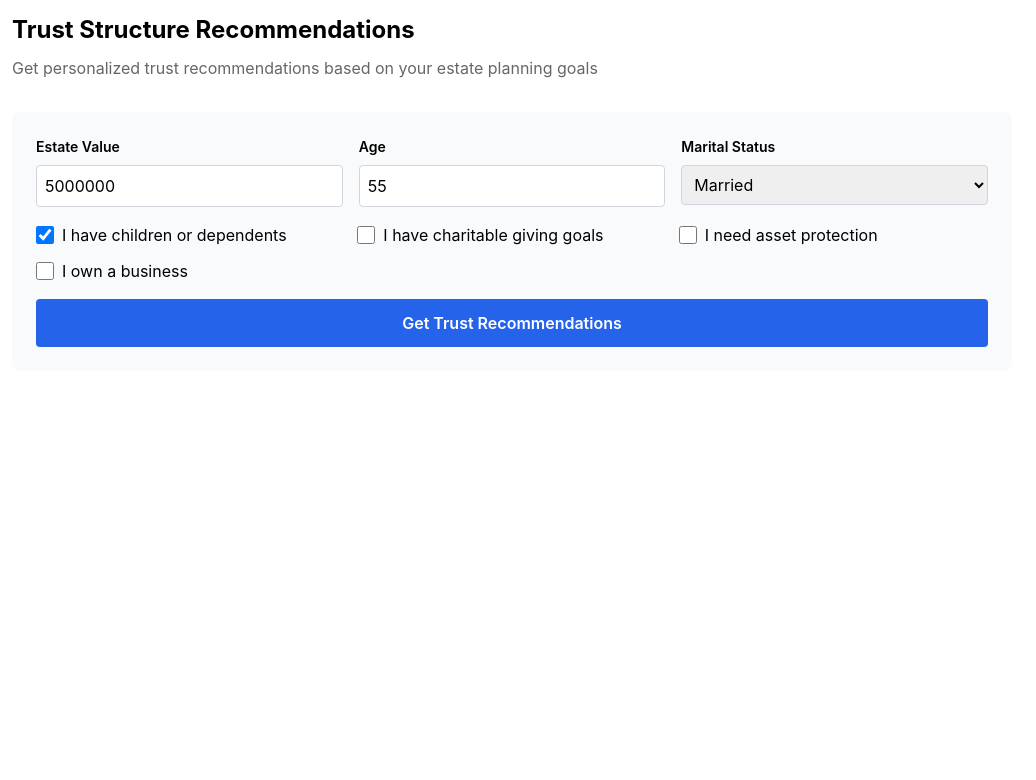
Test: Trust Structure Builder › gets trust recommendations successfully
Click the button "Get Trust Recommendations". click: (512, 323)
box: [36,299,988,347]
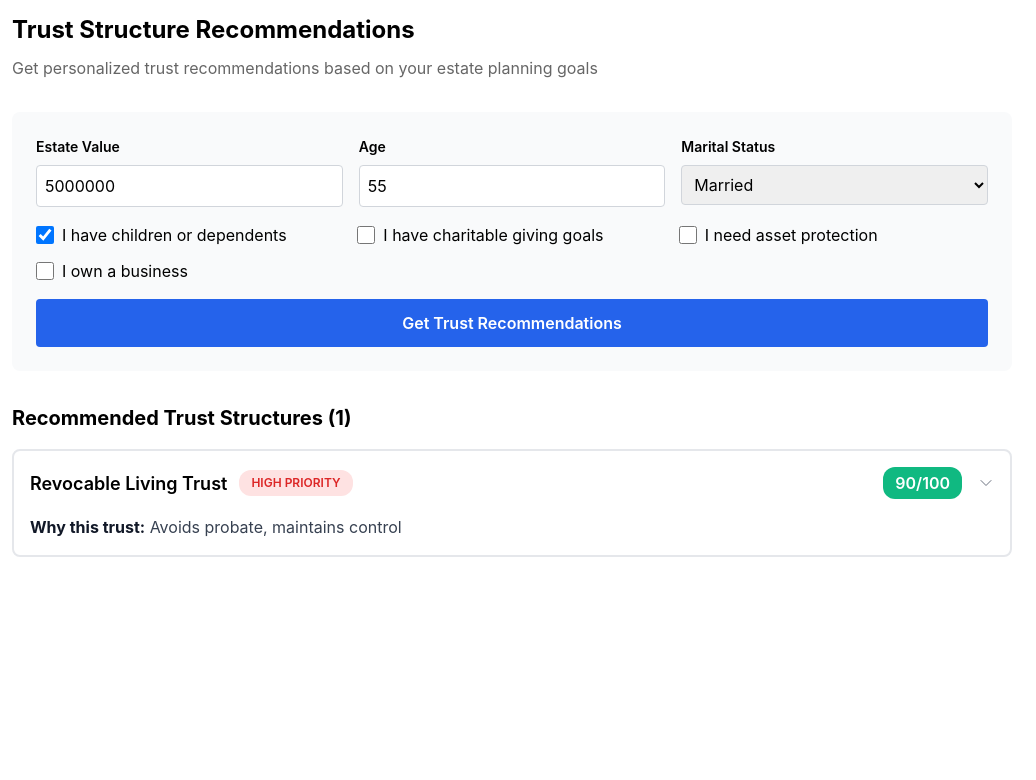
Now the heading "Revocable Living Trust" is shown, box [30,470,227,496]
Now the text "Why this trust: Avoids probate, maintains control" is shown, box [30,517,402,537]
